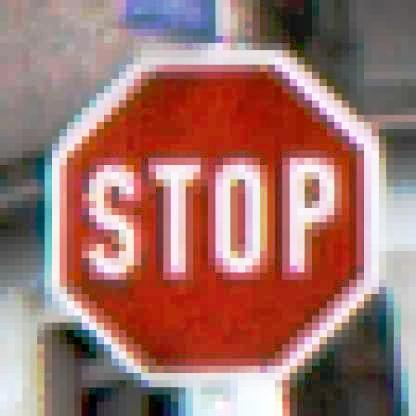Stop Sign: (49, 44, 390, 387)
